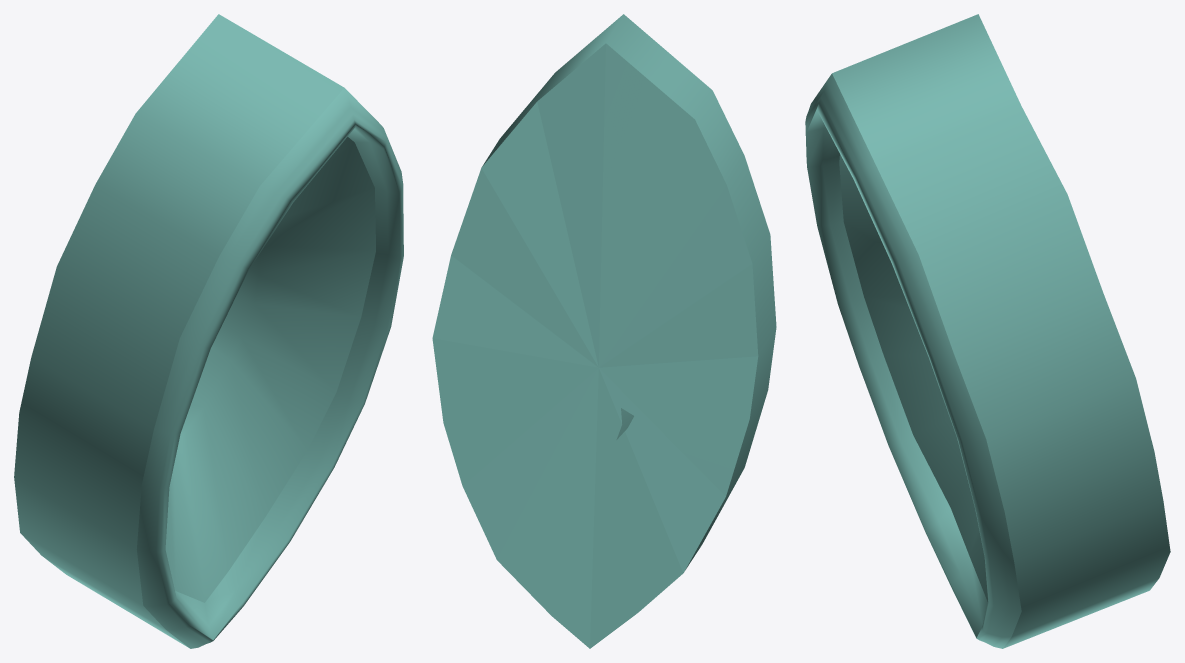
Rendered from BR2_8shapes_Marquise_Classic_Metal.001 2.glb.
3 renders of one model, left to right at view 1: azimuth 30°, elevation 25°; view 2: azimuth 150°, elevation 25°; view 3: azimuth 270°, elevation 25°, orthographic. The views are drawn at different scales.
Parts seen in each view (by area): view 1: BR2_8shapes_Marquise_Classic_Metal.001; view 2: BR2_8shapes_Marquise_Classic_Metal.001; view 3: BR2_8shapes_Marquise_Classic_Metal.001.
Part boxes in pixels (x1,y1,x2,y2): BR2_8shapes_Marquise_Classic_Metal.001: (14, 14, 403, 648); BR2_8shapes_Marquise_Classic_Metal.001: (432, 14, 776, 648); BR2_8shapes_Marquise_Classic_Metal.001: (805, 14, 1170, 648).
Bounding box in the file's own units: 0.3998 × 0.6944 × 0.3575.
